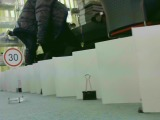speed_30: (1, 47, 23, 68)
